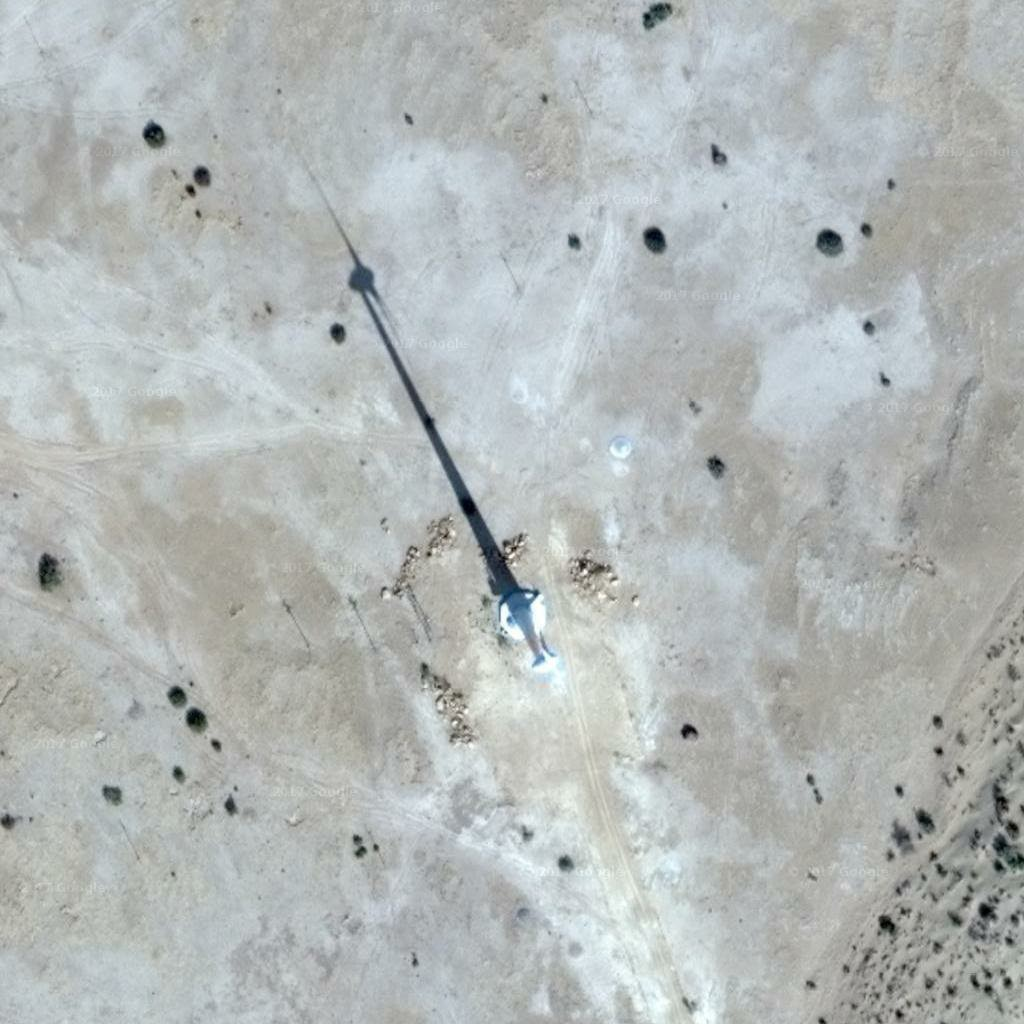Windmill: (304, 155, 528, 609)
